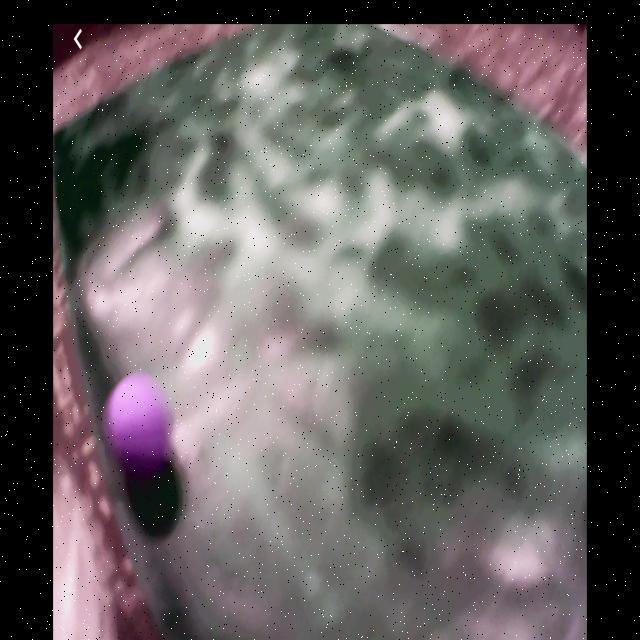ball: (106, 373, 171, 459)
